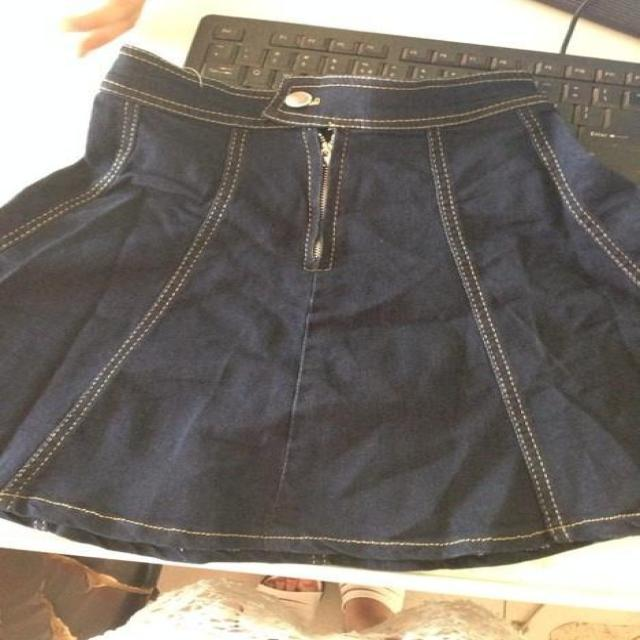skirt: (0, 44, 639, 572)
